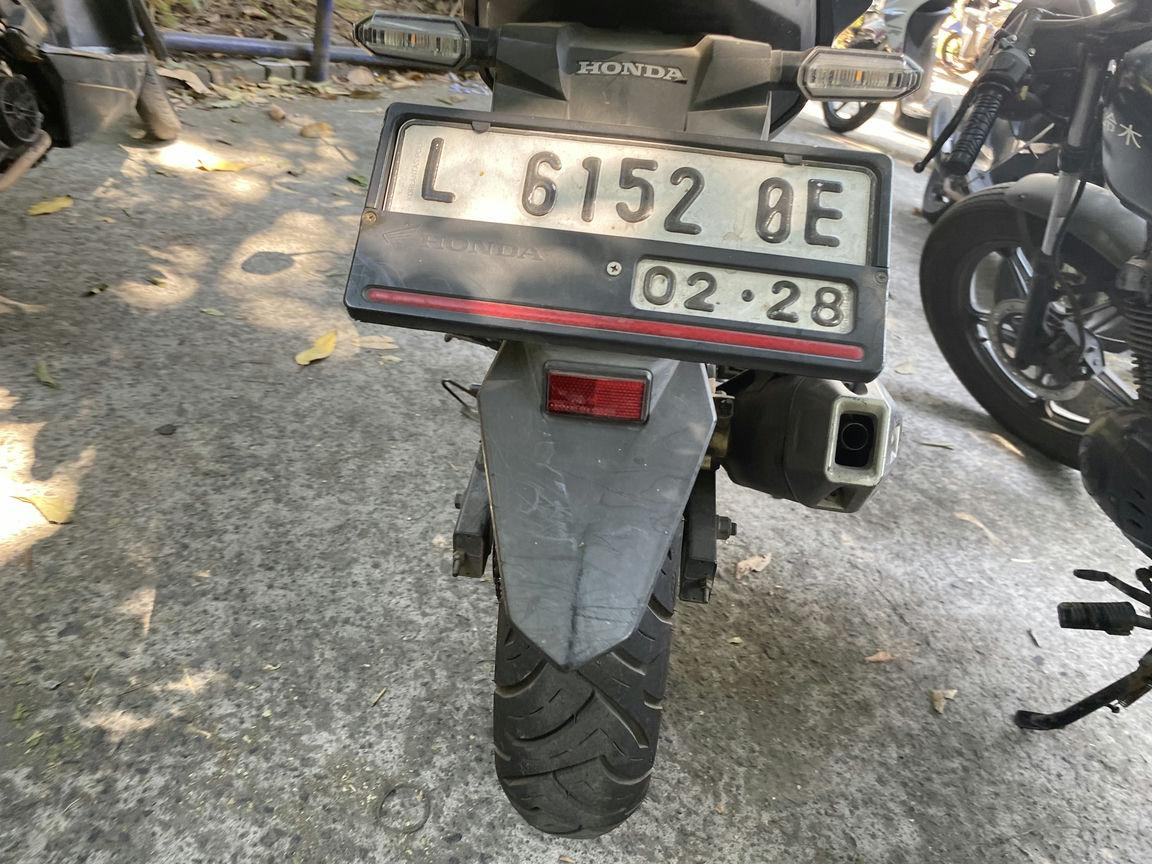plat: (344, 106, 891, 380)
